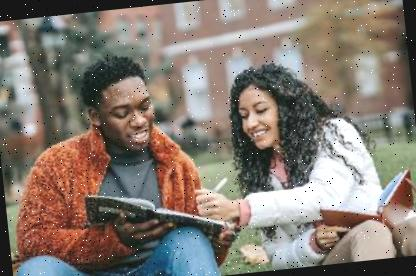person: (0, 39, 235, 276), (221, 43, 411, 273)
